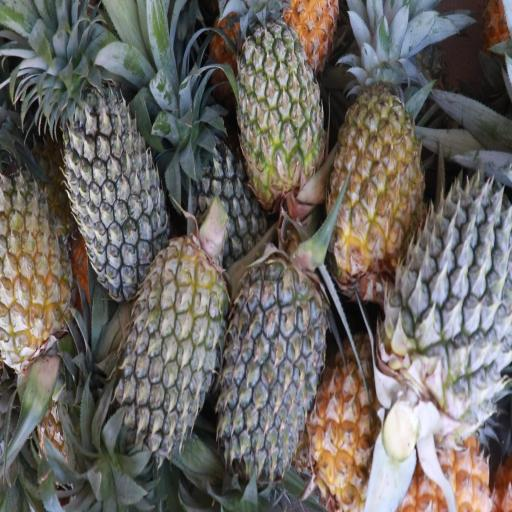------------------------------: (238, 12, 325, 206)
Pineapple - v8 v1: (329, 70, 421, 286), (309, 332, 400, 499), (0, 173, 73, 374)
